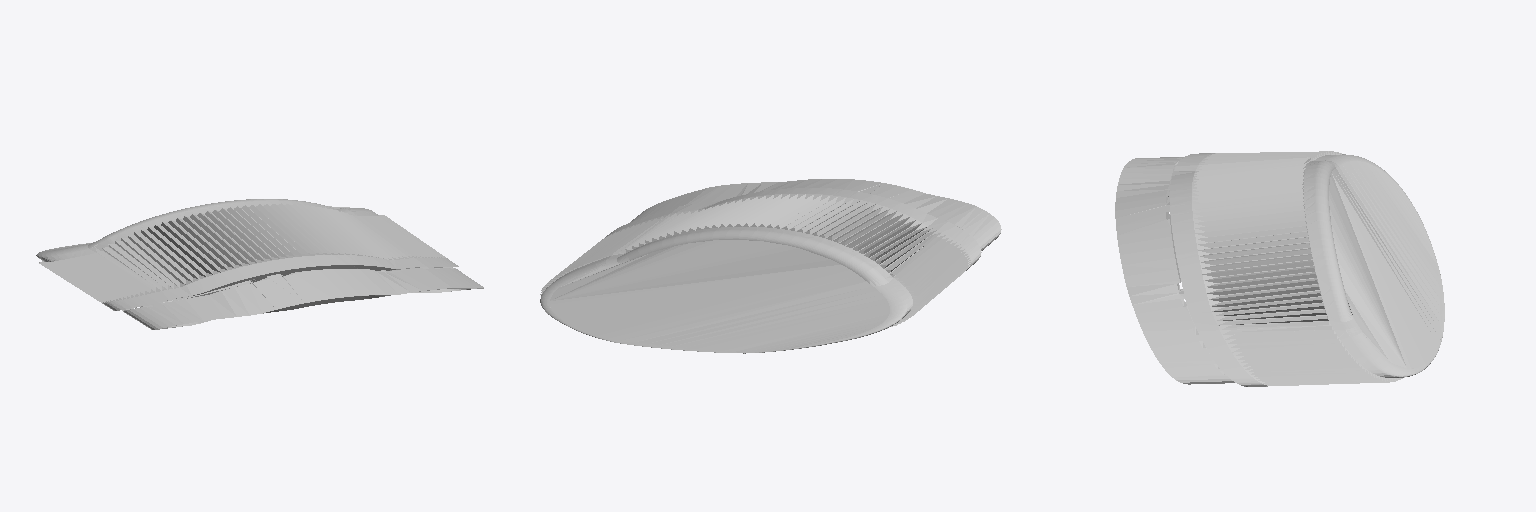
Rendered from bottle_cap_short.008.obj.
The picture shows the model from 3 angles: view 1: azimuth 30°, elevation 25°; view 2: azimuth 150°, elevation 25°; view 3: azimuth 270°, elevation 25°; orthographic projection.
Parts seen in each view (by area): view 1: bottle_cap_short.008; view 2: bottle_cap_short.008; view 3: bottle_cap_short.008.
Boxes of the visible parts, <box> form: bottle_cap_short.008: <box>36,199,483,329</box>; bottle_cap_short.008: <box>540,179,1001,353</box>; bottle_cap_short.008: <box>1115,151,1444,386</box>.
Bounding box in the file's own units: 0.0316 × 0.0077 × 0.0248.